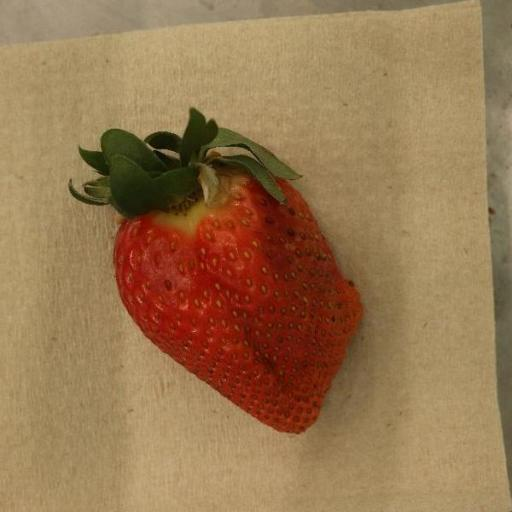Strawberry: (66, 109, 364, 434)
